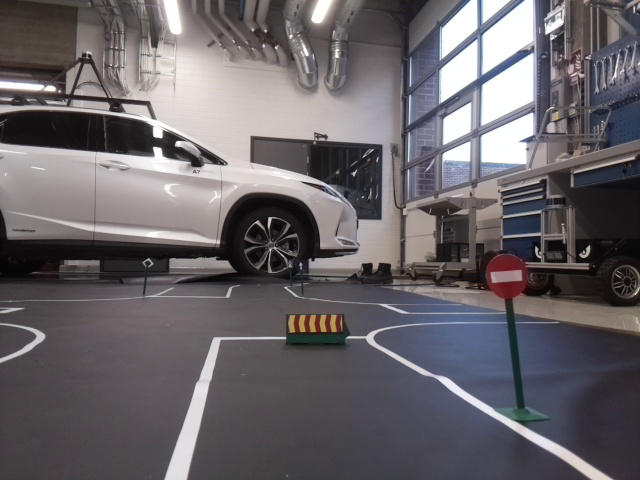ClosedRoadStand: (286, 312, 344, 333)
NoEntry: (485, 255, 526, 297)
